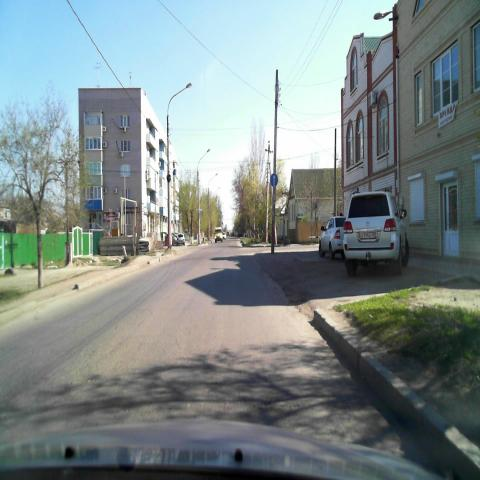4_1_1: (270, 173, 278, 187)
